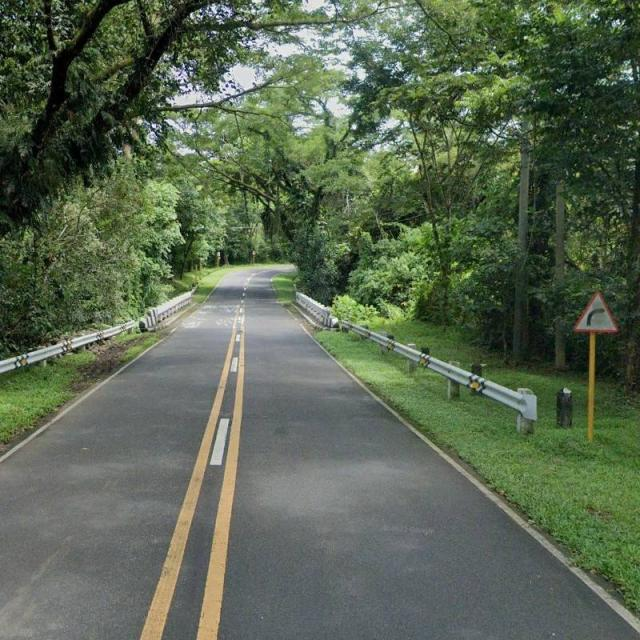warn_right_curve: (572, 291, 619, 332)
